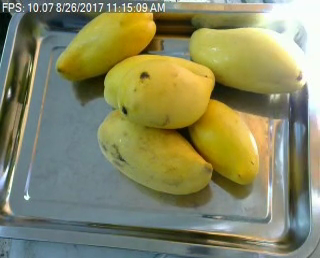Mango: (98, 111, 212, 195), (189, 25, 305, 95), (55, 5, 156, 82), (116, 60, 211, 127), (103, 52, 214, 108), (189, 97, 259, 185)
